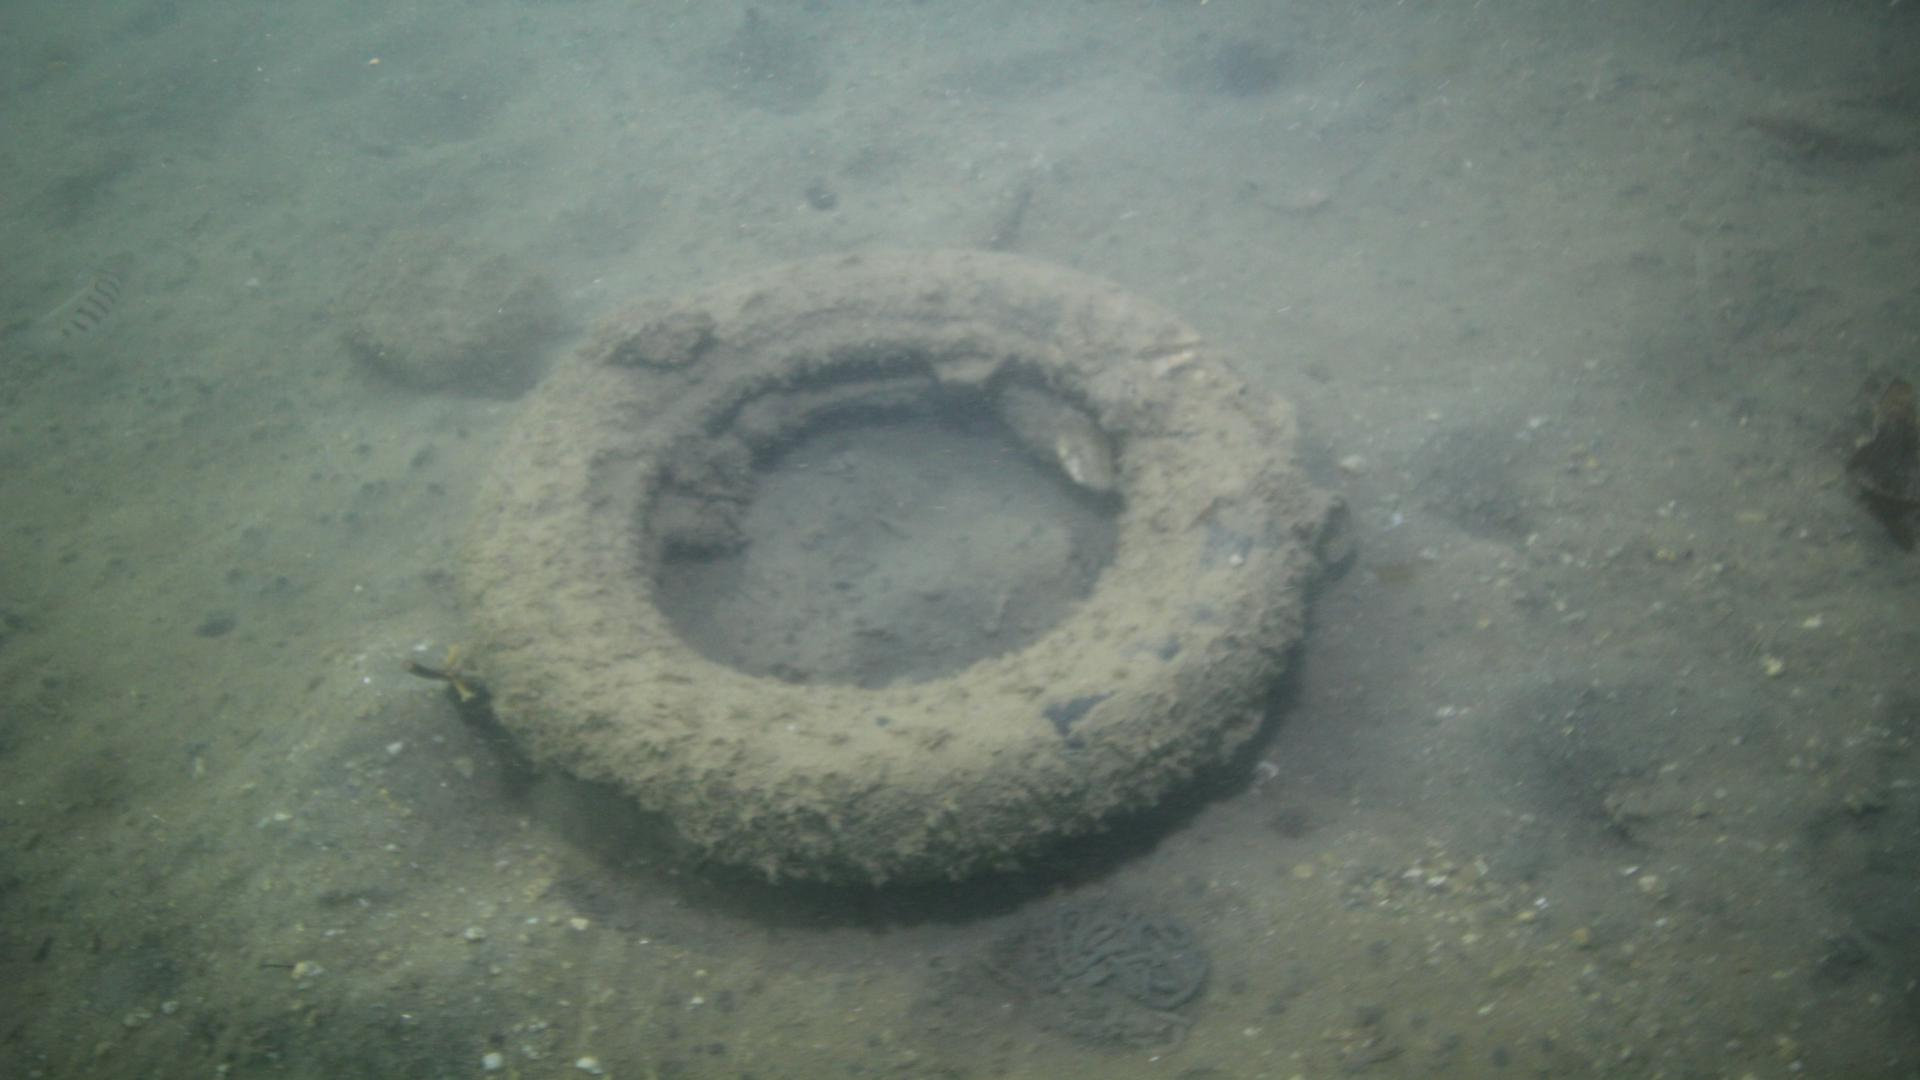tire: (460, 241, 1317, 891)
